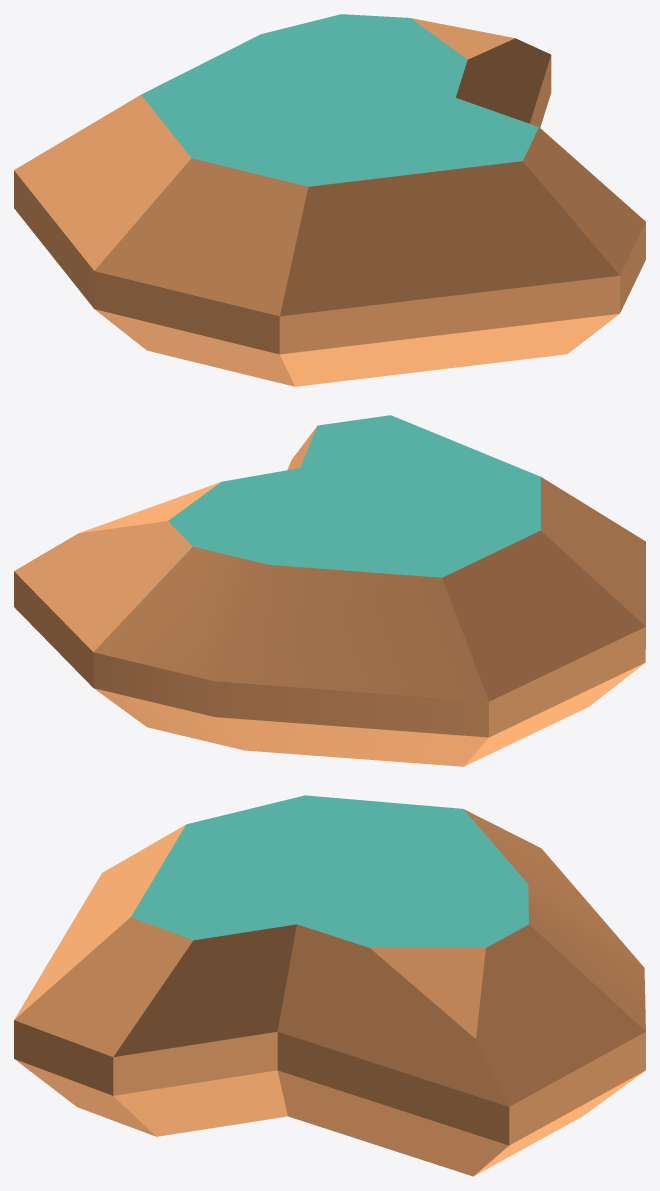
File: rock_large3.obj
3 views of the same model, one above another, from view 1: azimuth 30°, elevation 25°; view 2: azimuth 150°, elevation 25°; view 3: azimuth 270°, elevation 25° (orthographic). The views are drawn at different scales.
Visible parts, largest first — view 1: rock_large3; view 2: rock_large3; view 3: rock_large3.
Boxes of the visible parts, box(x1,y1,x2,y2) form: rock_large3: box(14, 14, 645, 386); rock_large3: box(14, 415, 645, 766); rock_large3: box(14, 795, 645, 1176).
Size of the model in its own units: 10.64 by 3.21 by 10.16.
